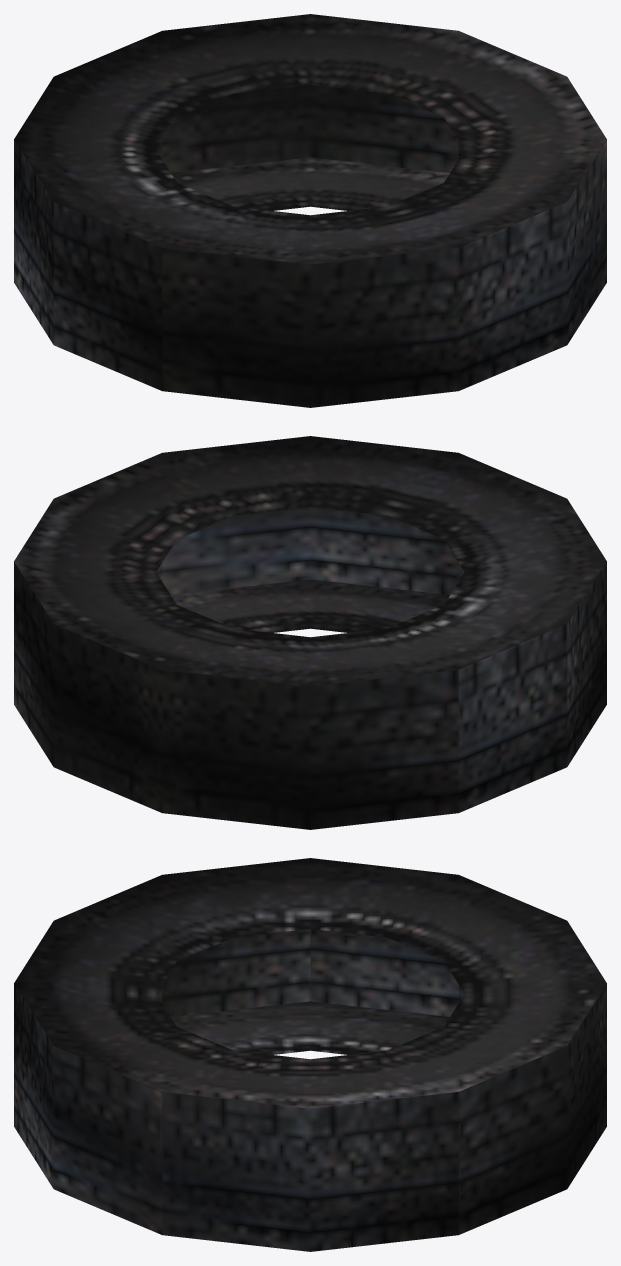
Rendered from tire.glb.
3 views of the same model, one above another, from view 1: azimuth 30°, elevation 25°; view 2: azimuth 150°, elevation 25°; view 3: azimuth 270°, elevation 25° (orthographic).
Parts seen in each view (by area): view 1: Tire; view 2: Tire; view 3: Tire.
Boxes of the visible parts, x1,y1,x2,y2 form: Tire: (14,14,606,407); Tire: (14,436,606,829); Tire: (14,858,606,1251).
Size of the model in its own units: 0.75 by 0.2 by 0.75.
1 material, 1 textured.
